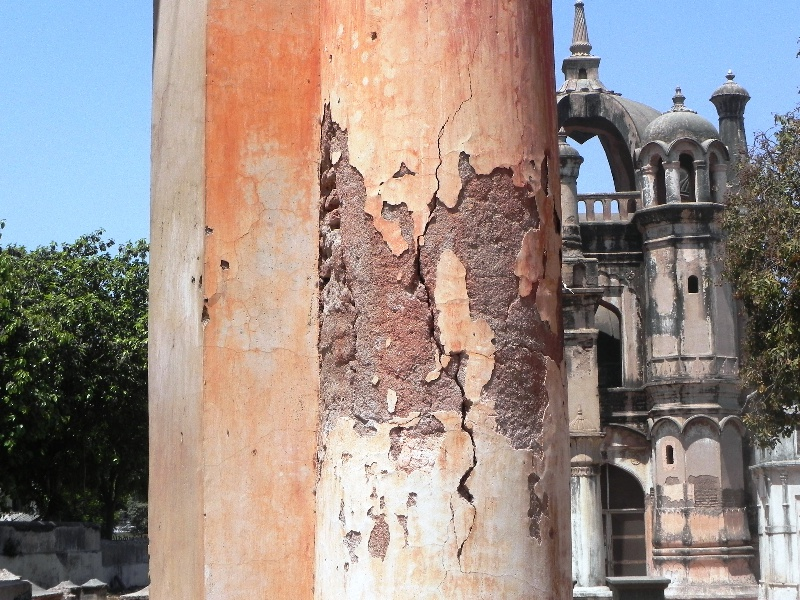Exposed Bricks: (319, 137, 350, 355)
Spalling: (352, 125, 567, 467)
